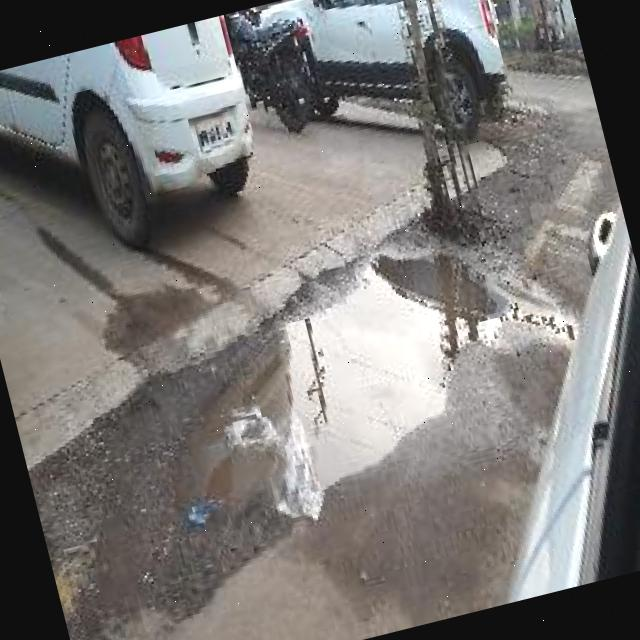stagnation: (161, 219, 579, 556)
